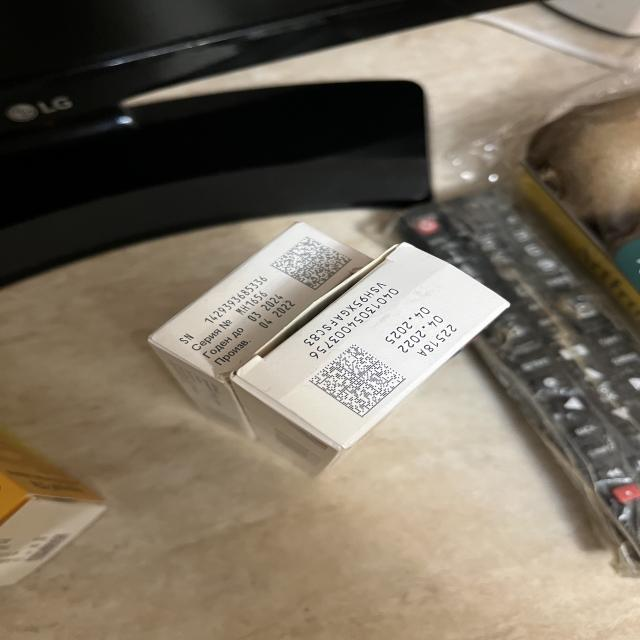datamatrix: (309, 345, 407, 419), (270, 236, 354, 292)
